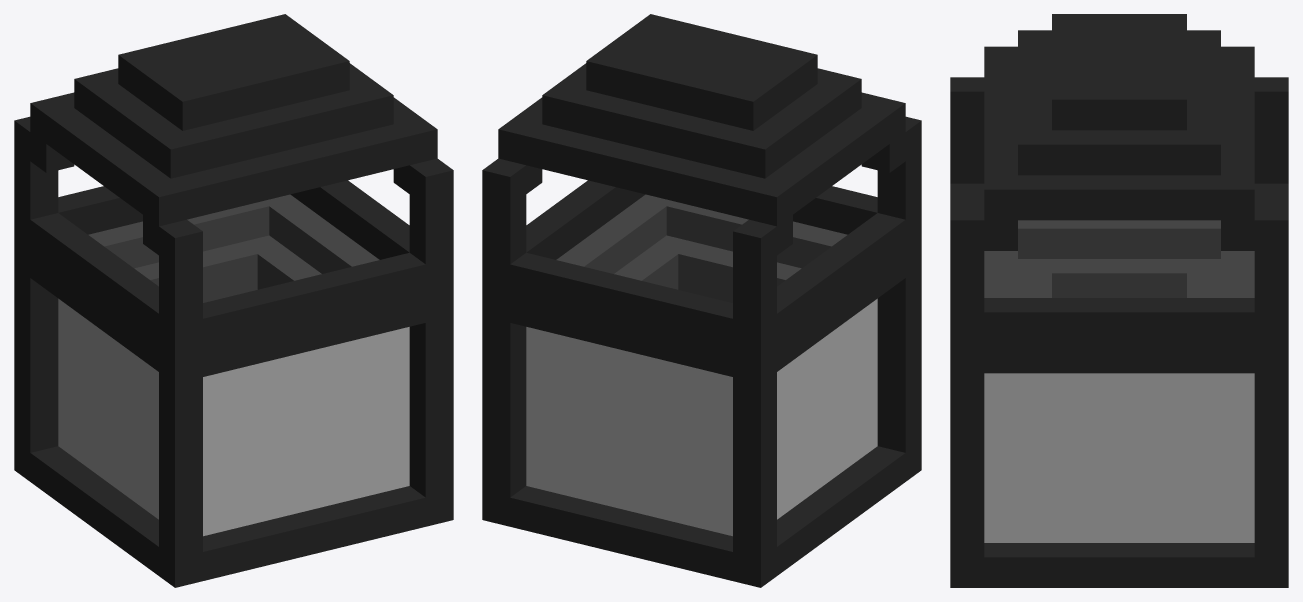
Rendered from Trainvasion Moterman-18-Trashcan.obj.
3 views of the same model, side by side, from view 1: azimuth 30°, elevation 25°; view 2: azimuth 150°, elevation 25°; view 3: azimuth 270°, elevation 25° (orthographic). The views are drawn at different scales.
Parts seen in each view (by area): view 1: Trashcan; view 2: Trashcan; view 3: Trashcan.
Boxes of the visible parts, x1=… form: Trashcan: x1=14, y1=14, x2=453, y2=587; Trashcan: x1=482, y1=14, x2=921, y2=587; Trashcan: x1=950, y1=14, x2=1288, y2=587.
Bounding box in the file's own units: 1 × 1.5 × 1.
Materials: 1 (1 with a texture image).
